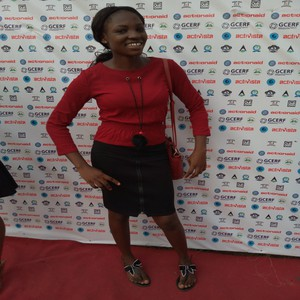Fulokoja_female_student: (88, 8, 198, 282)
